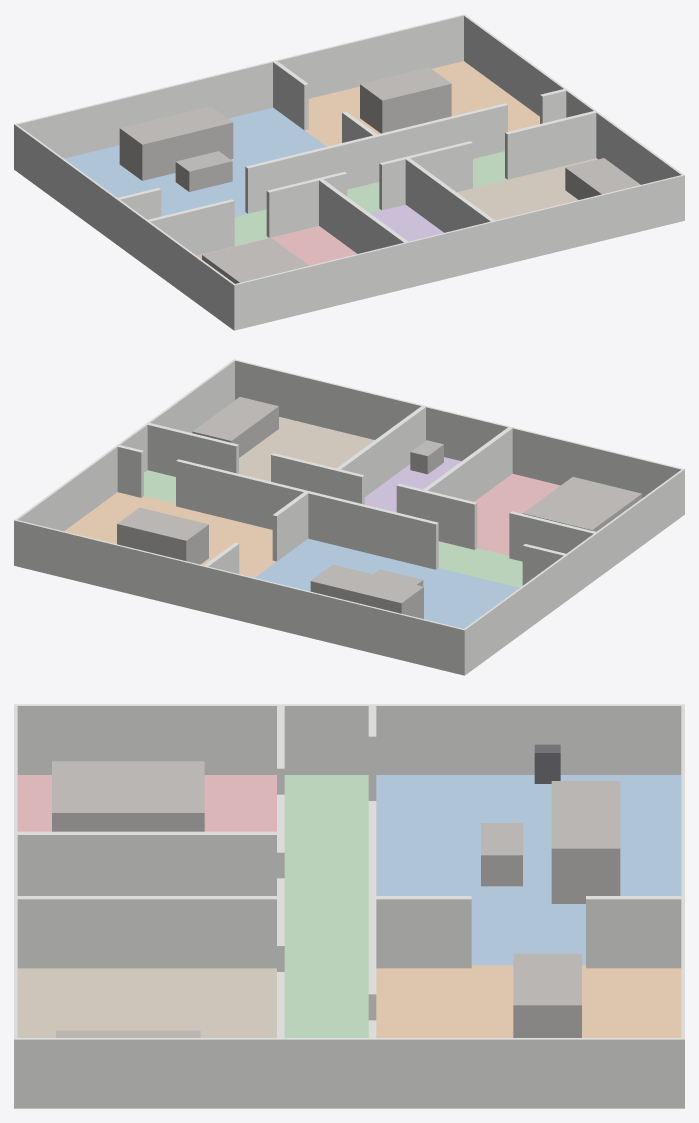
Rendered from flat.glb.
3 views of the same model, one above another, from view 1: azimuth 30°, elevation 25°; view 2: azimuth 150°, elevation 25°; view 3: azimuth 270°, elevation 25° (orthographic). The views are drawn at different scales.
Parts seen in each view (by area): view 1: walls, furniture, Living room, Kitchen, Study, Hall, Bedroom, Bathroom; view 2: walls, furniture, Living room, Kitchen, Study, Bedroom, Hall, Bathroom; view 3: walls, Living room, furniture, Hall, Study, Kitchen, Bedroom, dock.
Boxes of the visible parts, x1=… form: walls: x1=14, y1=14, x2=684, y2=330; furniture: x1=119, y1=67, x2=640, y2=283; Living room: x1=64, y1=107, x2=326, y2=216; Kitchen: x1=304, y1=61, x2=539, y2=146; Study: x1=457, y1=158, x2=597, y2=220; Hall: x1=234, y1=151, x2=507, y2=246; Bedroom: x1=197, y1=226, x2=356, y2=265; Bathroom: x1=370, y1=204, x2=443, y2=241; walls: x1=14, y1=359, x2=684, y2=675; furniture: x1=117, y1=397, x2=641, y2=618; Living room: x1=255, y1=538, x2=519, y2=628; Kitchen: x1=64, y1=492, x2=276, y2=577; Study: x1=239, y1=417, x2=374, y2=481; Bedroom: x1=474, y1=473, x2=560, y2=555; Hall: x1=144, y1=470, x2=522, y2=587; Bathroom: x1=364, y1=457, x2=460, y2=512; walls: x1=14, y1=704, x2=684, y2=1108; Living room: x1=376, y1=775, x2=681, y2=965; furniture: x1=52, y1=761, x2=620, y2=1037; Hall: x1=284, y1=775, x2=368, y2=1037; Study: x1=17, y1=968, x2=276, y2=1037; Kitchen: x1=376, y1=965, x2=681, y2=1037; Bedroom: x1=17, y1=775, x2=276, y2=831; dock: x1=534, y1=744, x2=560, y2=783.
Size of the model in its own units: 10.4 by 1 by 8.8.
